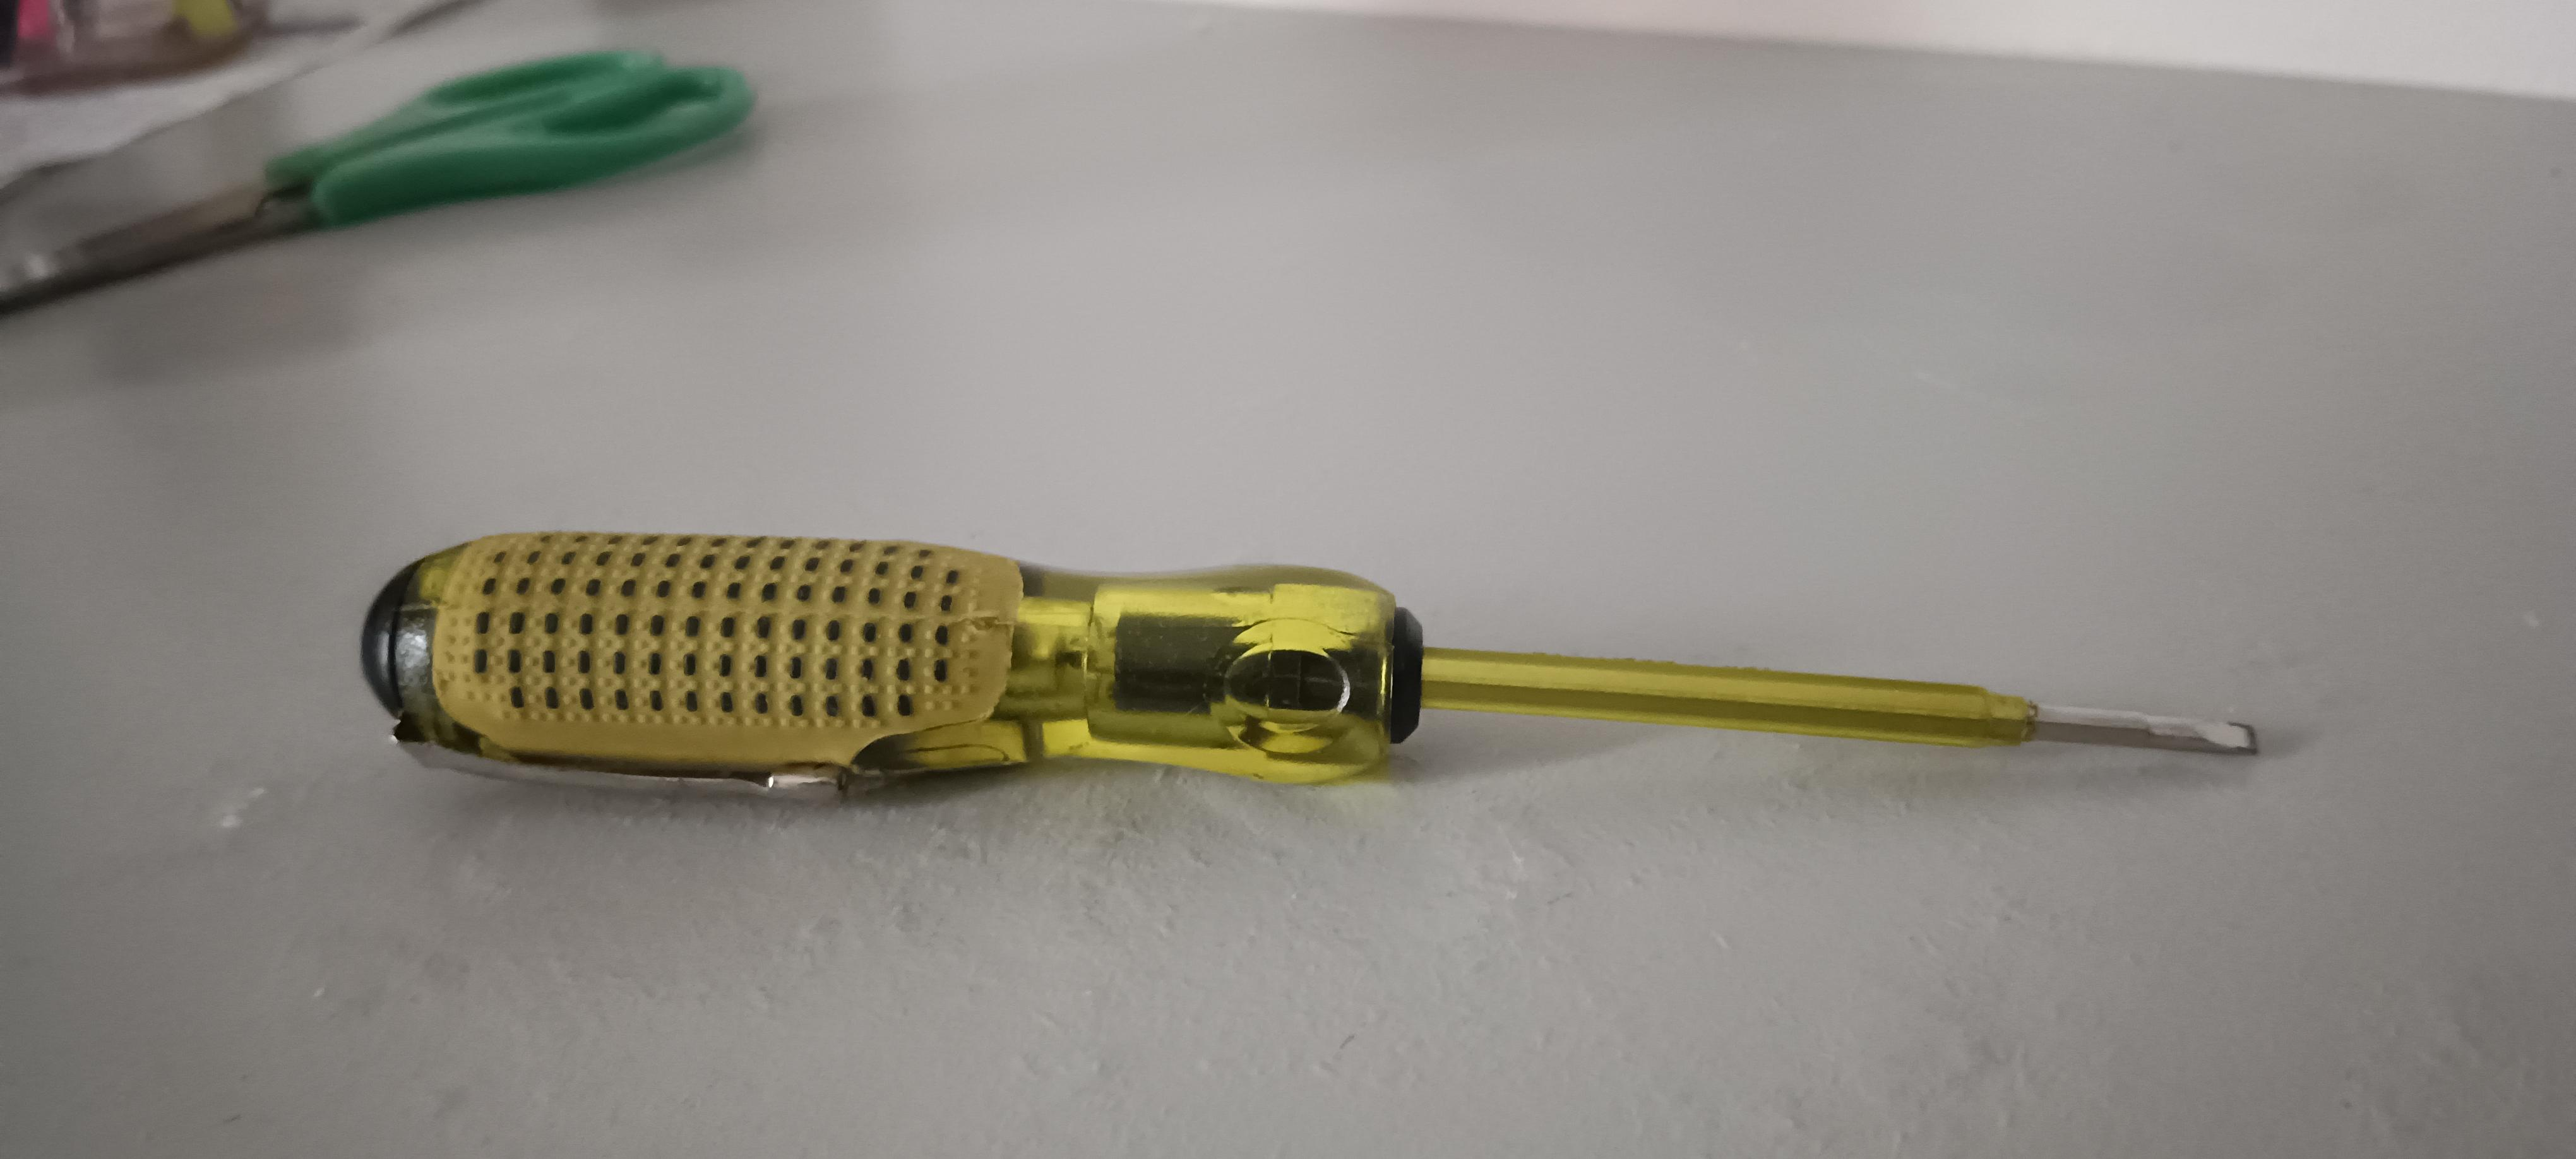Scissors: (0, 7, 772, 346)
Screwdriver: (330, 448, 2305, 903)
